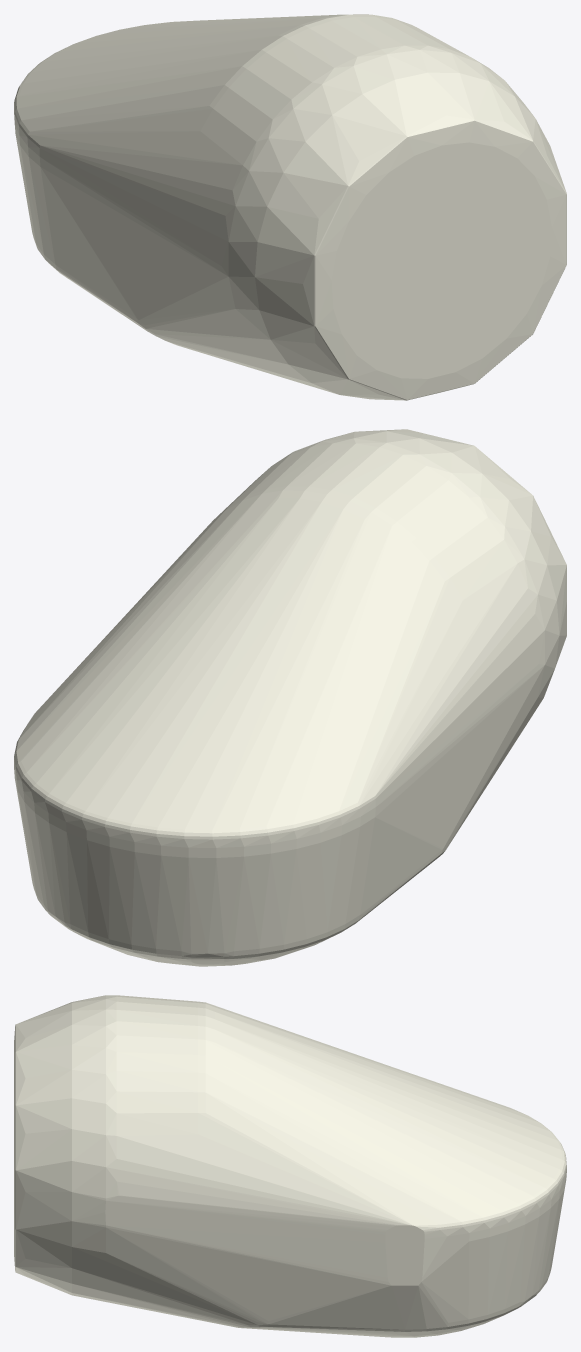
The model's file is MOTOMAN_AXIS_B_COLLISION.dae.
3 views of the same model, one above another, from view 1: azimuth 30°, elevation 25°; view 2: azimuth 150°, elevation 25°; view 3: azimuth 270°, elevation 25° (orthographic). The views are drawn at different scales.
Parts seen in each view (by area): view 1: node; view 2: node; view 3: node.
Boxes of the visible parts, left/top/right/bottom form: node: left=14, top=14, right=566, bottom=400; node: left=14, top=429, right=566, bottom=966; node: left=14, top=995, right=566, bottom=1337.
Size of the model in its own units: 0.14 by 0.146 by 0.239.
Materials: 1 (1 with a texture image).
